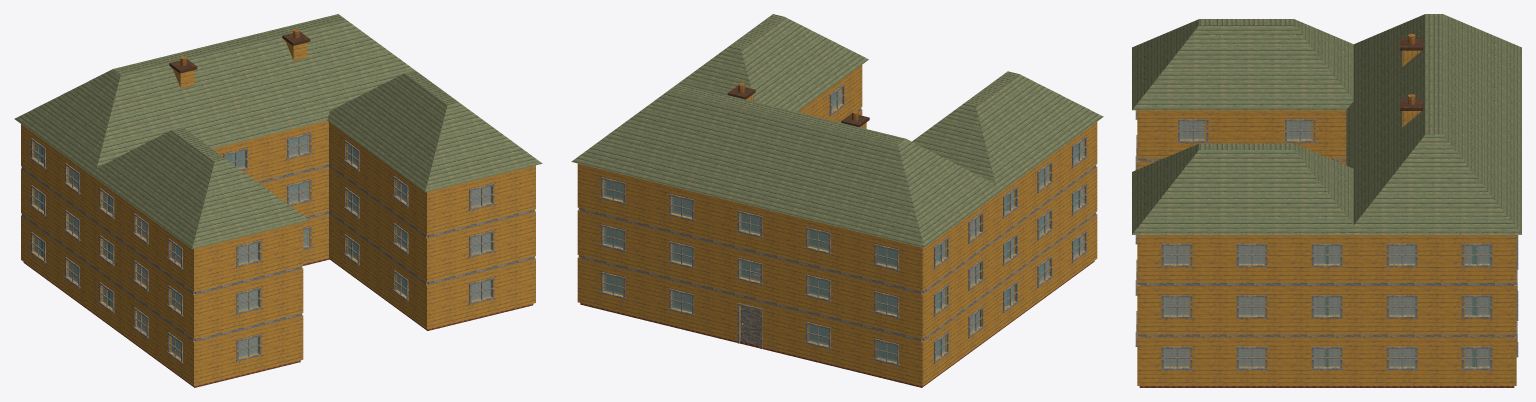
The model's file is marlow-courtyard-flats.gltf.
3 renders of one model, left to right at view 1: azimuth 30°, elevation 25°; view 2: azimuth 150°, elevation 25°; view 3: azimuth 270°, elevation 25°, orthographic. The views are drawn at different scales.
Parts seen in each view (by area): view 1: roof-L2-slate, exterior-L2-brick, exterior-L1-brick, exterior-L0-brick, trim-L2-dark-wood, trim-L1-dark-wood, trim-L0-dark-wood, glazing-L2-glass, glazing-L1-glass, exterior-L1-dark-wood, glazing-L0-glass, exterior-L0-dark-wood (+5 smaller); view 2: roof-L2-slate, exterior-L2-brick, exterior-L1-brick, exterior-L0-brick, trim-L2-dark-wood, trim-L1-dark-wood, trim-L0-dark-wood, glazing-L2-glass, glazing-L1-glass, glazing-L0-glass, exterior-L1-dark-wood, exterior-L0-dark-wood (+6 smaller); view 3: roof-L2-slate, exterior-L2-brick, exterior-L1-brick, exterior-L0-brick, glazing-L2-glass, trim-L2-dark-wood, glazing-L1-glass, trim-L0-dark-wood, glazing-L0-glass, trim-L1-dark-wood, floor-L0-floor, floor-L2-floor (+5 smaller).
Boxes of the visible parts, <box> form: roof-L2-slate: <box>14,14,542,248</box>; exterior-L2-brick: <box>21,121,535,292</box>; exterior-L1-brick: <box>21,167,535,339</box>; exterior-L0-brick: <box>21,214,535,386</box>; trim-L2-dark-wood: <box>30,132,494,269</box>; trim-L1-dark-wood: <box>30,179,494,316</box>; trim-L0-dark-wood: <box>30,226,494,363</box>; glazing-L2-glass: <box>34,135,491,264</box>; glazing-L1-glass: <box>34,182,491,311</box>; exterior-L1-dark-wood: <box>21,164,535,294</box>; glazing-L0-glass: <box>34,229,491,358</box>; exterior-L0-dark-wood: <box>21,211,535,341</box>; roof-L2-slate: <box>571,14,1103,247</box>; exterior-L2-brick: <box>577,65,1097,291</box>; exterior-L1-brick: <box>577,109,1097,338</box>; exterior-L0-brick: <box>577,214,1097,386</box>; trim-L2-dark-wood: <box>600,84,1087,271</box>; trim-L1-dark-wood: <box>600,183,1087,318</box>; trim-L0-dark-wood: <box>600,231,1087,366</box>; glazing-L2-glass: <box>604,89,1083,267</box>; glazing-L1-glass: <box>604,188,1083,314</box>; glazing-L0-glass: <box>604,235,1083,362</box>; exterior-L1-dark-wood: <box>578,108,1096,293</box>; exterior-L0-dark-wood: <box>578,212,1096,341</box>; roof-L2-slate: <box>1132,14,1521,234</box>; exterior-L2-brick: <box>1137,110,1516,282</box>; exterior-L1-brick: <box>1137,160,1516,334</box>; exterior-L0-brick: <box>1137,336,1516,385</box>; glazing-L2-glass: <box>1163,121,1490,263</box>; trim-L2-dark-wood: <box>1135,110,1518,267</box>; glazing-L1-glass: <box>1163,297,1490,315</box>; trim-L0-dark-wood: <box>1135,235,1518,370</box>; glazing-L0-glass: <box>1163,349,1490,366</box>; trim-L1-dark-wood: <box>1135,135,1518,318</box>; floor-L0-floor: <box>1139,349,1514,387</box>; floor-L2-floor: <box>1166,122,1487,261</box>.
Size of the model in its own units: 16.56 by 9.56 by 14.56.
Materials: 10 (9 with a texture image).
